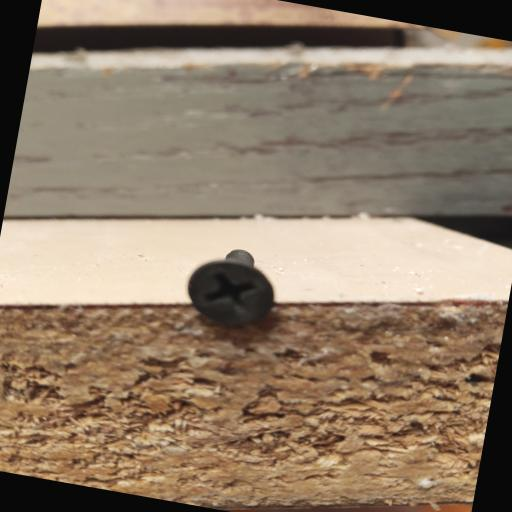Phillips: (175, 252, 284, 332)
